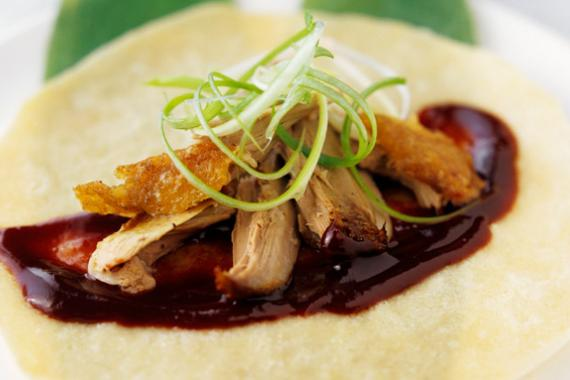peking_duck: (10, 11, 557, 380)
